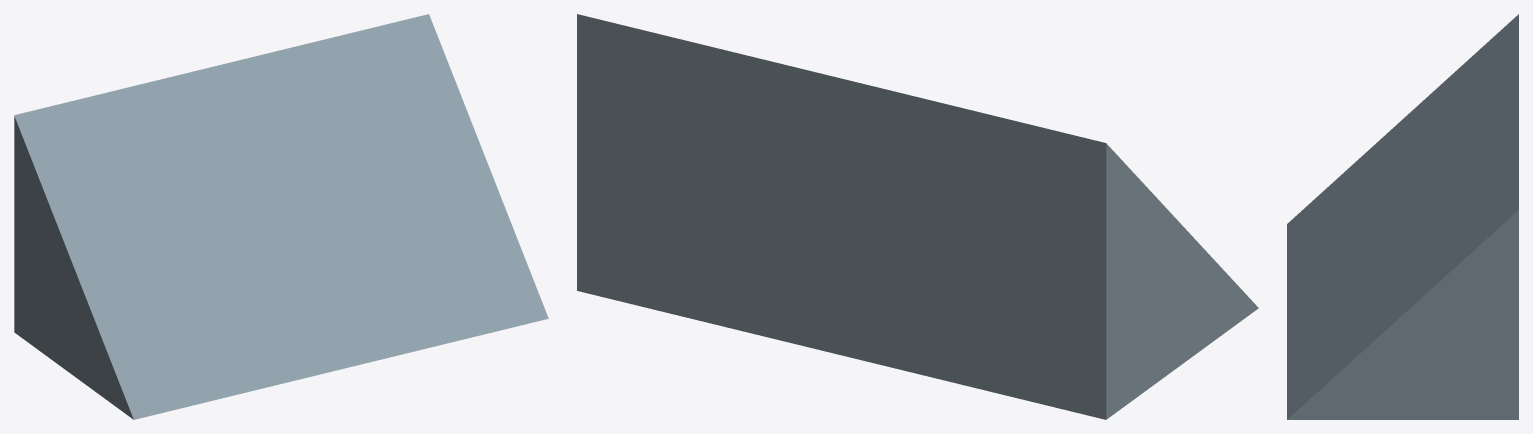
The model's file is ENV_F_BankWedge.fbx.
3 views of the same model, side by side, from view 1: azimuth 30°, elevation 25°; view 2: azimuth 150°, elevation 25°; view 3: azimuth 270°, elevation 25° (orthographic). The views are drawn at different scales.
Parts seen in each view (by area): view 1: ENV_F_BankWedge; view 2: ENV_F_BankWedge; view 3: ENV_F_BankWedge.
Boxes of the visible parts, x1,y1,x2,y2 form: ENV_F_BankWedge: [14, 14, 548, 419]; ENV_F_BankWedge: [577, 14, 1258, 419]; ENV_F_BankWedge: [1287, 14, 1518, 419].
Size of the model in its own units: 400 by 200 by 200.
